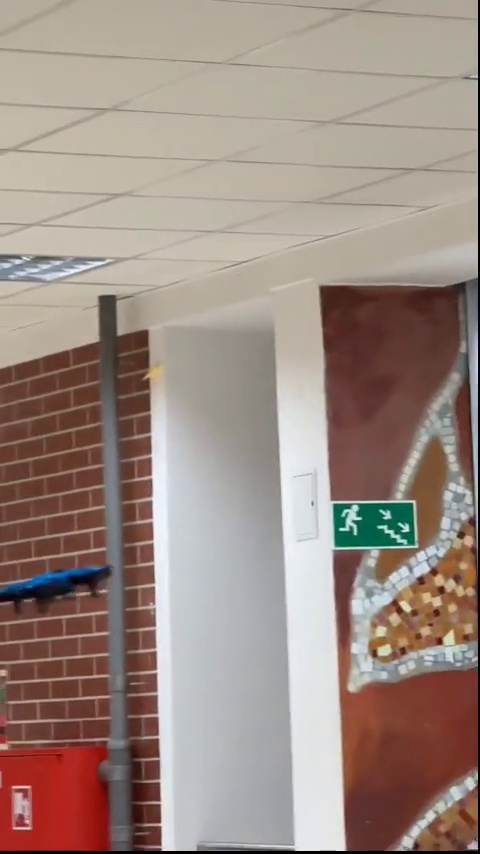drone: (2, 564, 114, 609)
